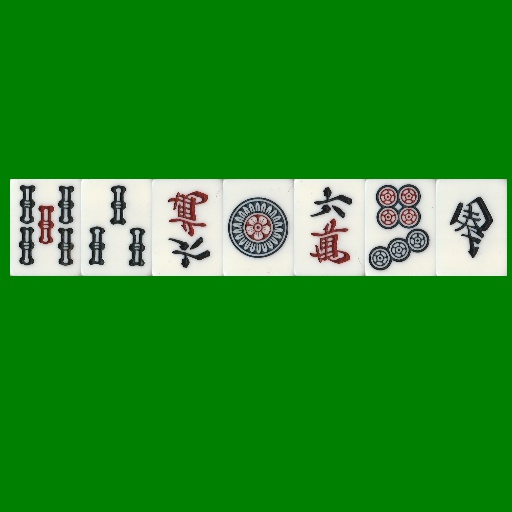1p: (223, 179, 294, 276)
3s: (81, 179, 152, 276)
5s: (10, 179, 81, 276)
6m: (152, 179, 223, 276), (294, 179, 365, 276)
7p: (365, 179, 436, 276)
south: (436, 179, 507, 276)
